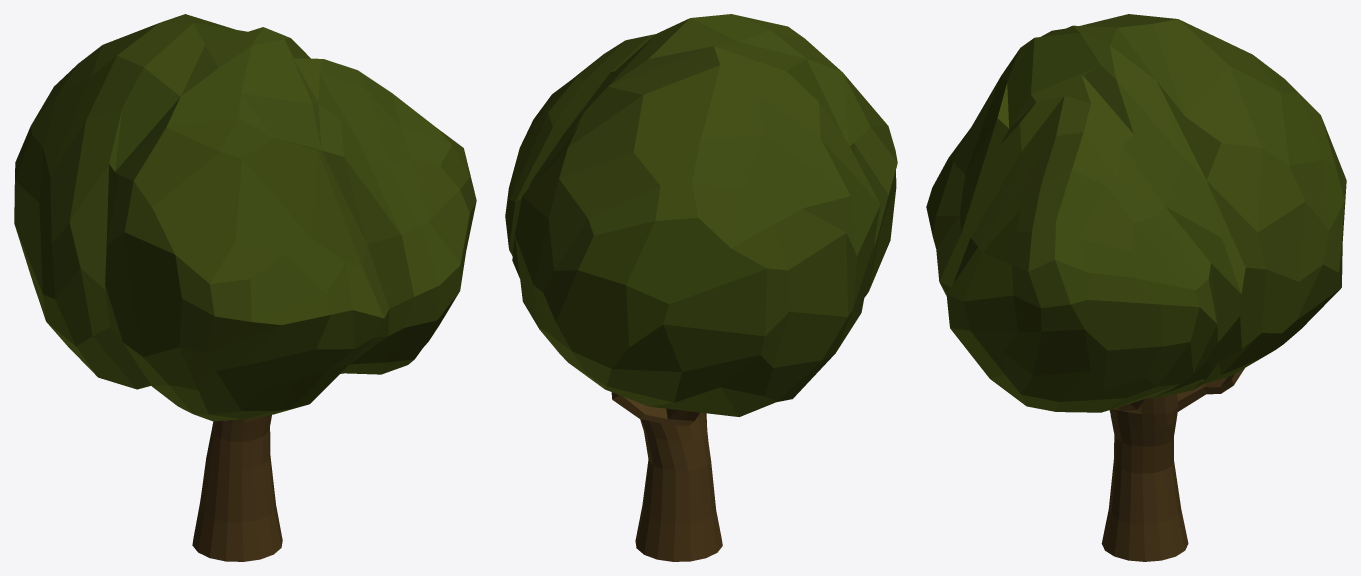
File: tree.fbx
The picture shows the model from 3 angles, left to right: view 1: azimuth 30°, elevation 25°; view 2: azimuth 150°, elevation 25°; view 3: azimuth 270°, elevation 25°; orthographic projection. The views are drawn at different scales.
Visible parts, largest first — view 1: tree; view 2: tree; view 3: tree.
Part boxes in pixels (x1,y1,x2,y2): tree: (14,14,476,561); tree: (505,14,897,561); tree: (926,14,1346,561).
Bounding box in the file's own units: 509 × 675 × 512.
